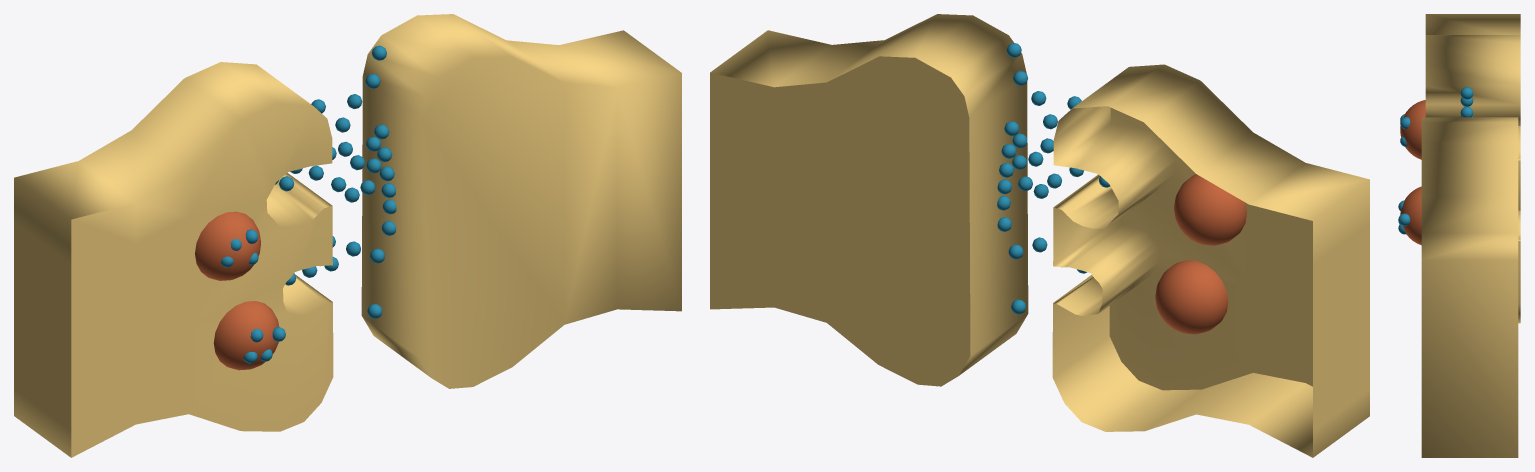
The model's file is synapse.fbx.
The picture shows the model from 3 angles, left to right: view 1: azimuth 30°, elevation 25°; view 2: azimuth 150°, elevation 25°; view 3: azimuth 270°, elevation 25°; orthographic projection. The views are drawn at different scales.
Parts seen in each view (by area): view 1: synapse; view 2: synapse; view 3: synapse.
Part boxes in pixels (<box>): synapse: <box>14,14,681,457</box>; synapse: <box>710,14,1369,457</box>; synapse: <box>1398,14,1520,457</box>.
Size of the model in its own units: 3106 by 1642 by 652.
